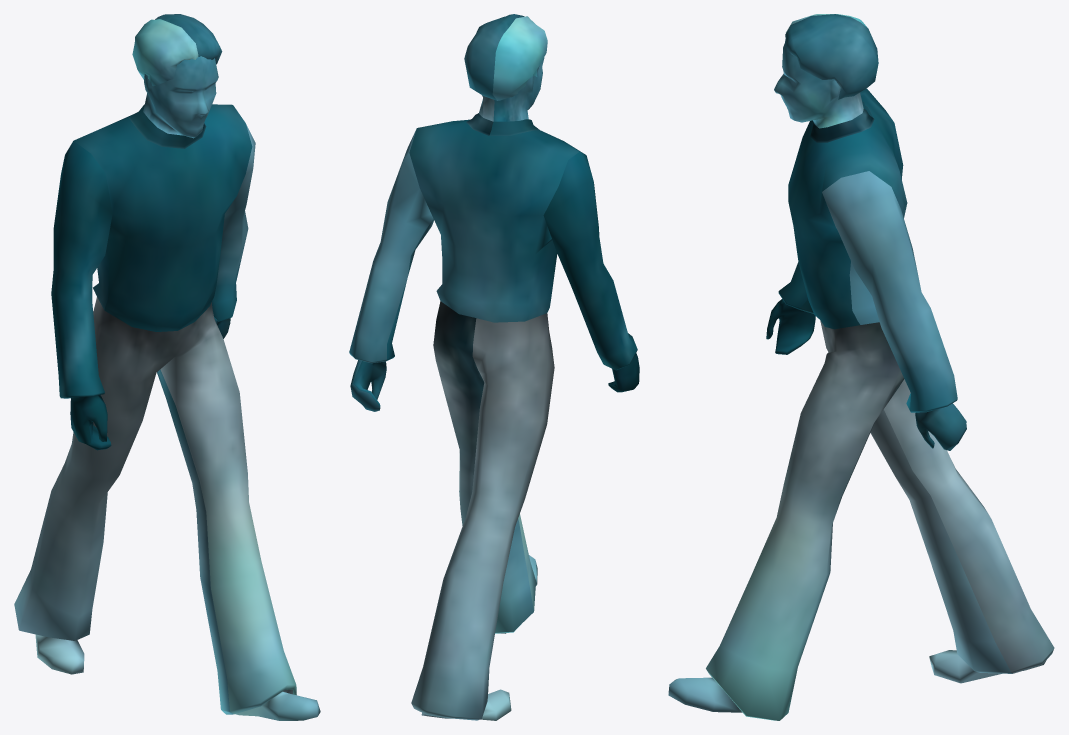
The model's file is simpleMan00.obj.
The picture shows the model from 3 angles, left to right: view 1: azimuth 30°, elevation 25°; view 2: azimuth 150°, elevation 25°; view 3: azimuth 270°, elevation 25°; orthographic projection. The views are drawn at different scales.
Visible parts, largest first — view 1: uomo; view 2: uomo; view 3: uomo.
Part boxes in pixels (bbox=[...]): uomo: bbox=[14, 14, 320, 720]; uomo: bbox=[349, 14, 639, 720]; uomo: bbox=[668, 14, 1054, 720].
Size of the model in its own units: 1.74 by 4.89 by 2.51.
